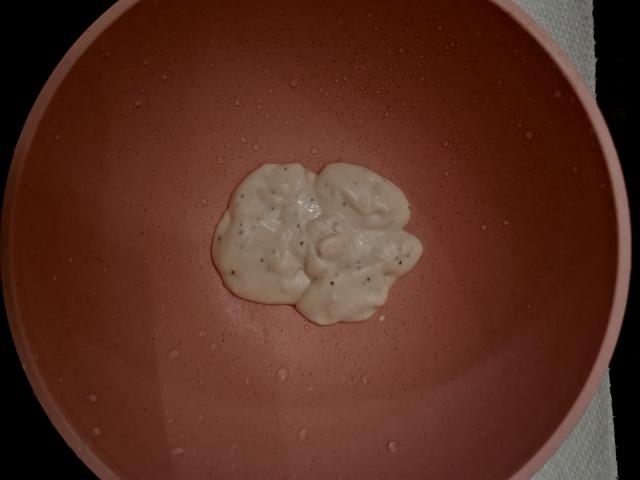kichen waste: (212, 163, 422, 324)
